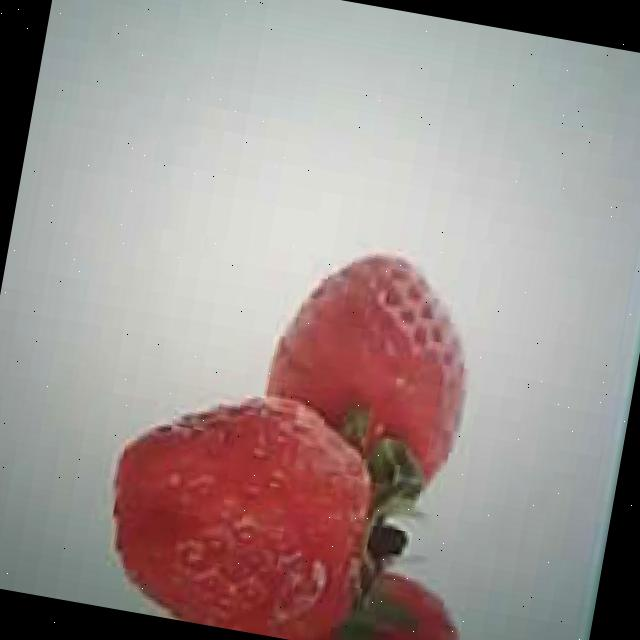strawberry: (97, 380, 393, 640)
